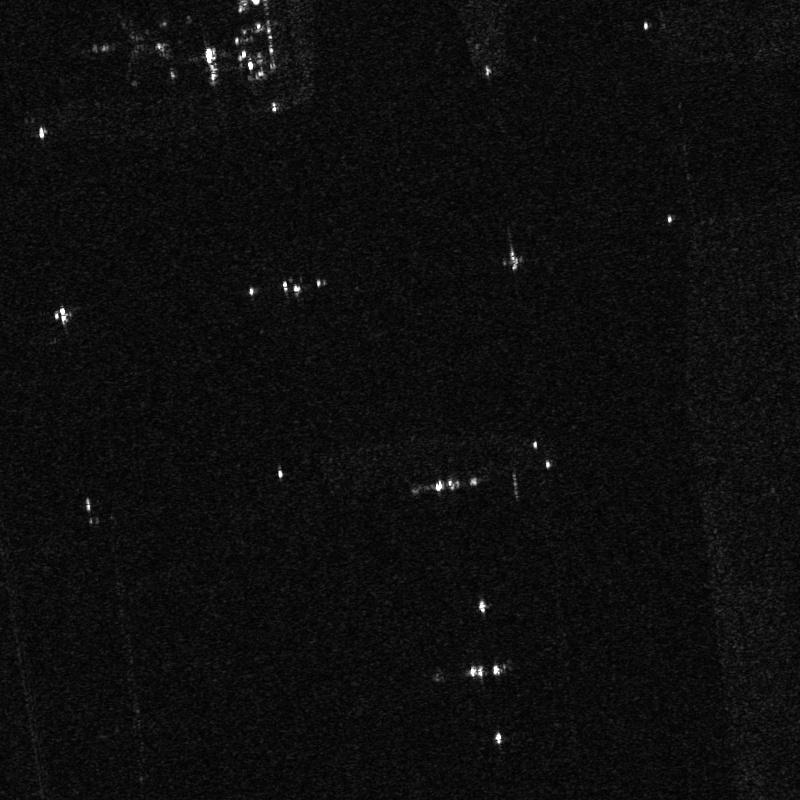Boeing787: (84, 9, 170, 90)
